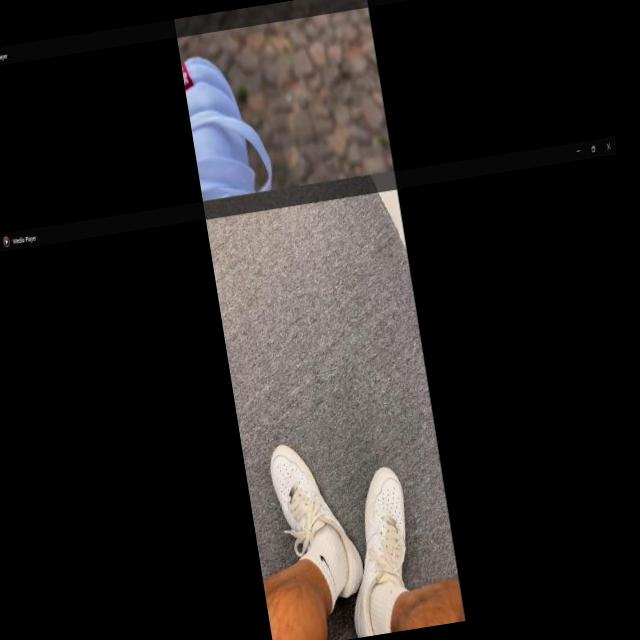nike_original_airforce: (266, 434, 369, 609), (331, 464, 425, 638)
